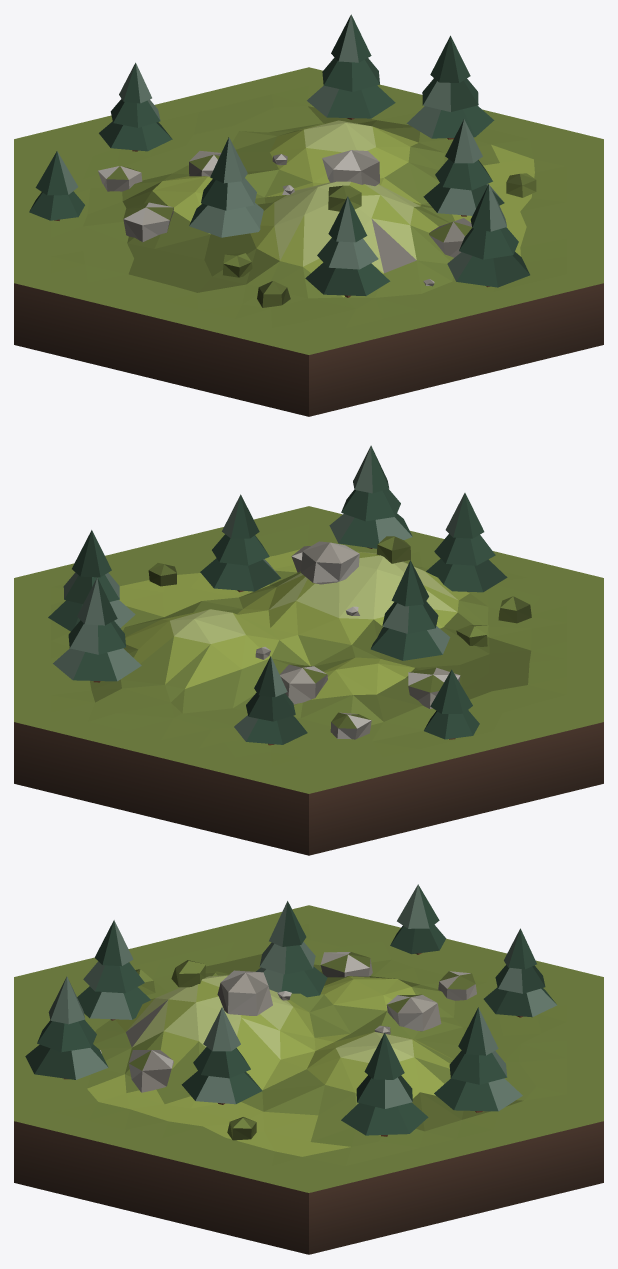
File: SM_Tile_Hills_A.fbx
3 renders of one model, top to bottom at view 1: azimuth 30°, elevation 25°; view 2: azimuth 150°, elevation 25°; view 3: azimuth 270°, elevation 25°, orthographic.
Visible parts, largest first — view 1: SM_Tile_Hills_A; view 2: SM_Tile_Hills_A; view 3: SM_Tile_Hills_A.
Part boxes in pixels (x1=…): SM_Tile_Hills_A: x1=14, y1=14, x2=603, y2=416; SM_Tile_Hills_A: x1=14, y1=445, x2=603, y2=855; SM_Tile_Hills_A: x1=14, y1=884, x2=603, y2=1254.
Bounding box in the file's own units: 20 × 5.38 × 17.32.
